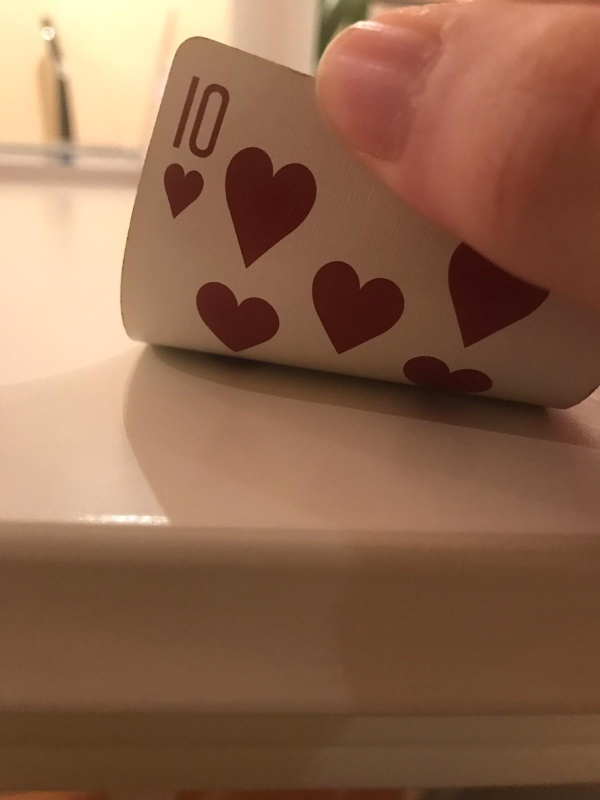H10: (157, 66, 229, 223)
